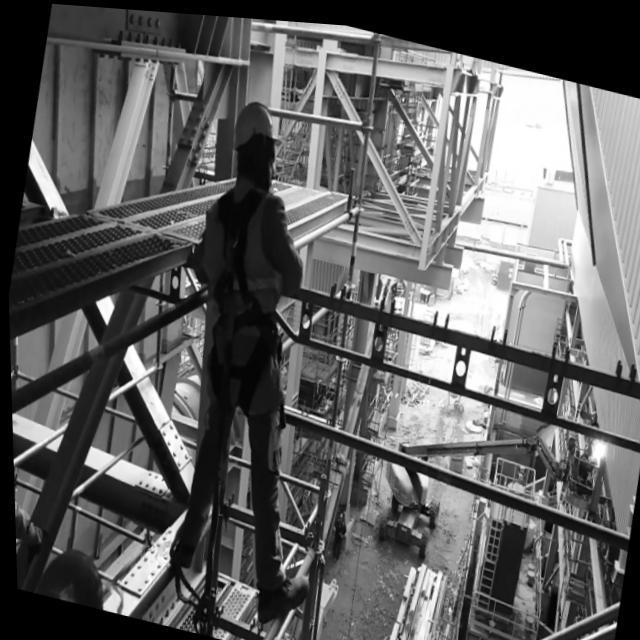belt: (163, 160, 313, 428)
